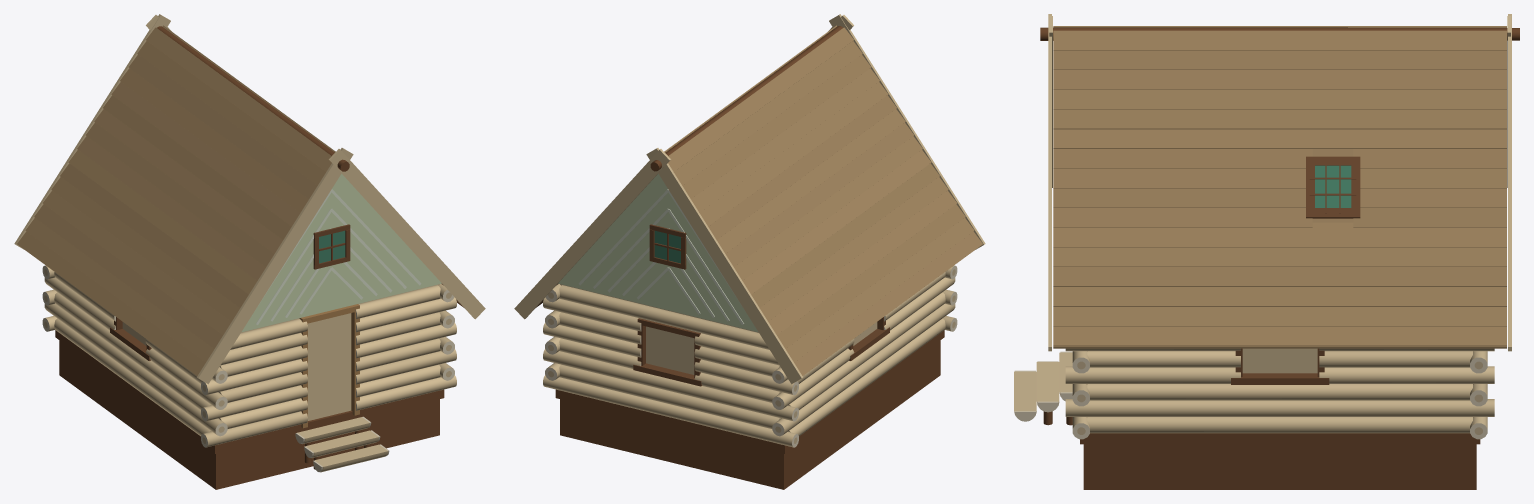
Rendered from guest_tan.glb.
The picture shows the model from 3 angles, left to right: view 1: azimuth 30°, elevation 25°; view 2: azimuth 150°, elevation 25°; view 3: azimuth 270°, elevation 25°; orthographic projection. The views are drawn at different scales.
Visible parts, largest first — view 1: guest_tan, guest_tan_far, guest_tan_pane; view 2: guest_tan, guest_tan_far, guest_tan_pane; view 3: guest_tan, guest_tan_far, guest_tan_pane.
Boxes of the visible parts, left/top/right/bottom form: guest_tan: left=14, top=14, right=485, bottom=472; guest_tan_far: left=59, top=284, right=439, bottom=489; guest_tan_pane: left=319, top=230, right=345, bottom=263; guest_tan: left=514, top=14, right=985, bottom=453; guest_tan_far: left=560, top=284, right=940, bottom=489; guest_tan_pane: left=654, top=230, right=680, bottom=263; guest_tan: left=1014, top=14, right=1519, bottom=444; guest_tan_far: left=1053, top=27, right=1506, bottom=489; guest_tan_pane: left=1315, top=165, right=1351, bottom=207.
Size of the model in its own units: 5.51 by 5.93 by 6.69.
